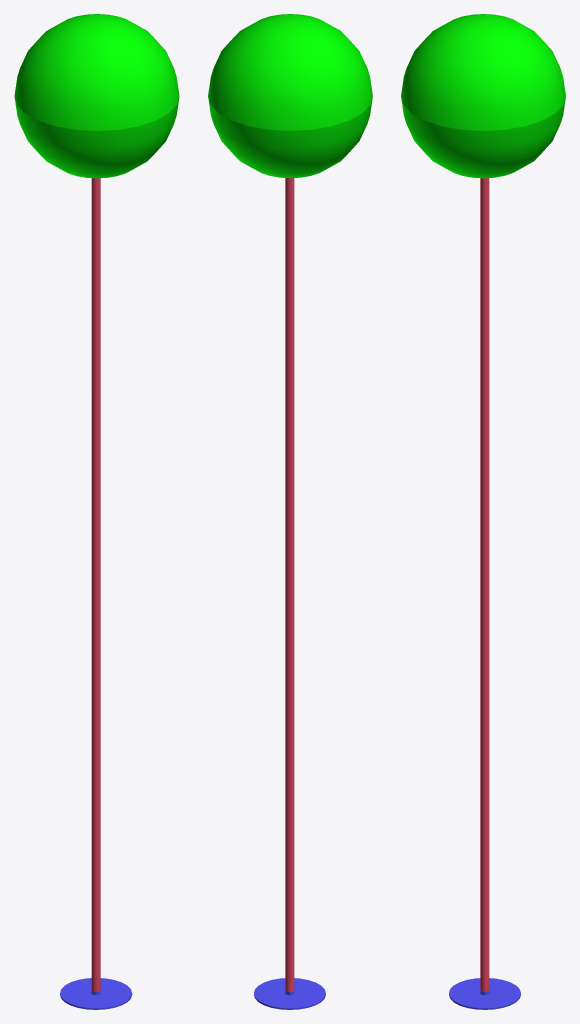
Rendered from buoy_green.dae.
3 renders of one model, left to right at view 1: azimuth 30°, elevation 25°; view 2: azimuth 150°, elevation 25°; view 3: azimuth 270°, elevation 25°, orthographic.
Visible parts, largest first — view 1: instance_4, instance_3, instance_2_001; view 2: instance_4, instance_3, instance_2_001; view 3: instance_4, instance_3, instance_2_001.
Boxes of the visible parts, x1,y1,x2,y2 form: instance_4: (14,14,179,178); instance_3: (91,178,100,991); instance_2_001: (60,978,132,1009); instance_4: (208,14,372,178); instance_3: (285,178,294,991); instance_2_001: (254,978,325,1009); instance_4: (401,14,565,178); instance_3: (480,178,489,991); instance_2_001: (449,978,520,1009).
Size of the model in its own units: 0.4572 by 0.4572 by 2.98.
